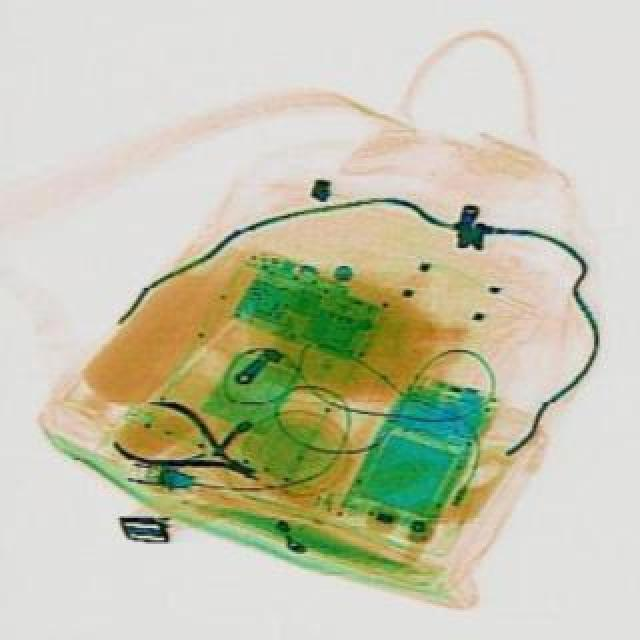wrench: (104, 386, 272, 506)
